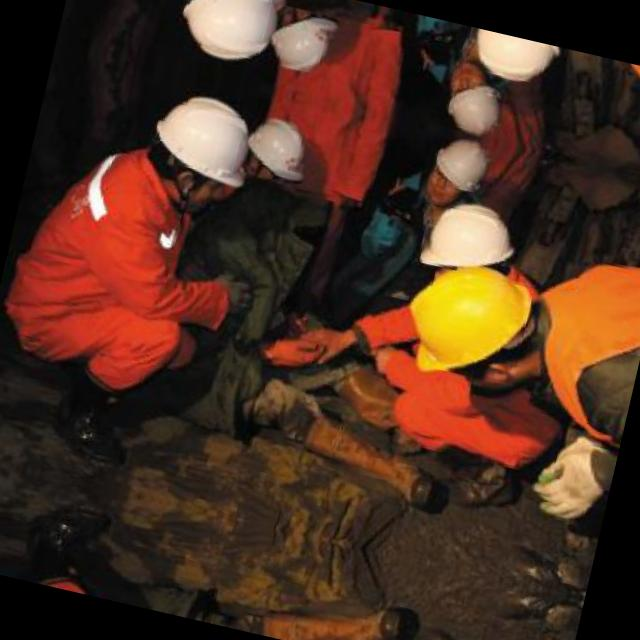helmet: (384, 236, 560, 411), (138, 80, 268, 216), (404, 185, 528, 299), (169, 0, 295, 75), (452, 24, 566, 96), (235, 109, 318, 192), (262, 0, 345, 78), (424, 131, 494, 207), (440, 62, 510, 138)
